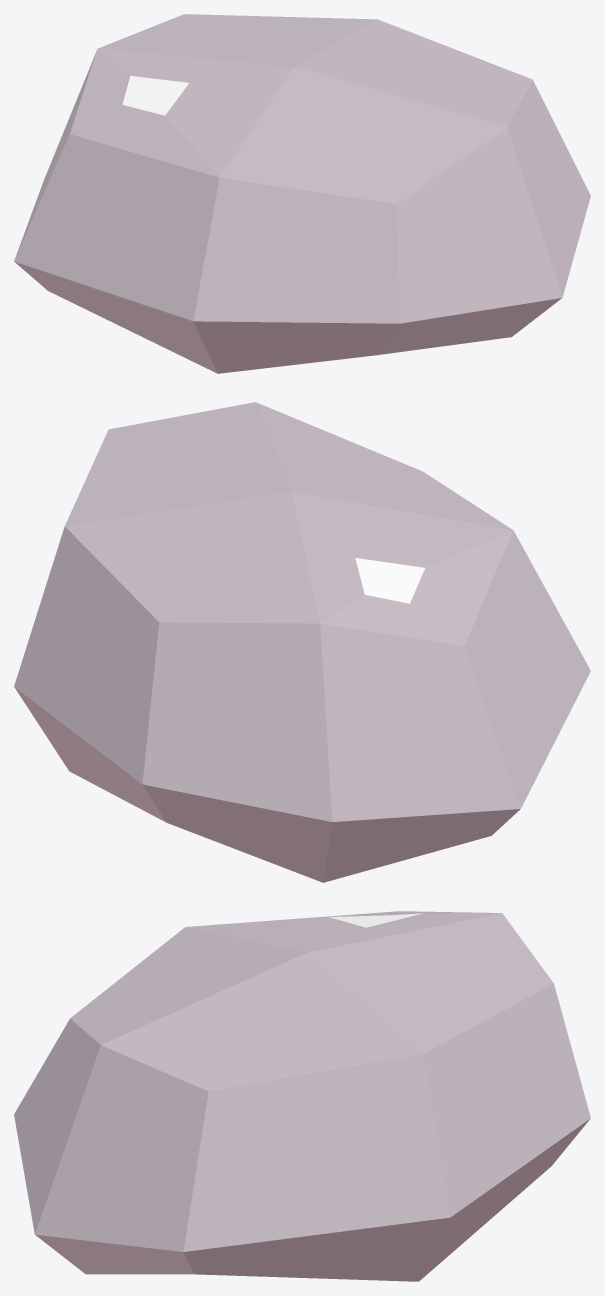
File: env_rock_a.glb
3 views of the same model, one above another, from view 1: azimuth 30°, elevation 25°; view 2: azimuth 150°, elevation 25°; view 3: azimuth 270°, elevation 25° (orthographic). The views are drawn at different scales.
Parts seen in each view (by area): view 1: Object_20; view 2: Object_20; view 3: Object_20.
Boxes of the visible parts, x1,y1,x2,y2 form: Object_20: (14, 14, 590, 373); Object_20: (14, 402, 590, 882); Object_20: (14, 911, 590, 1281).
Size of the model in its own units: 0.4107 by 0.2046 by 0.3826.
Materials: 1 (1 with a texture image).
